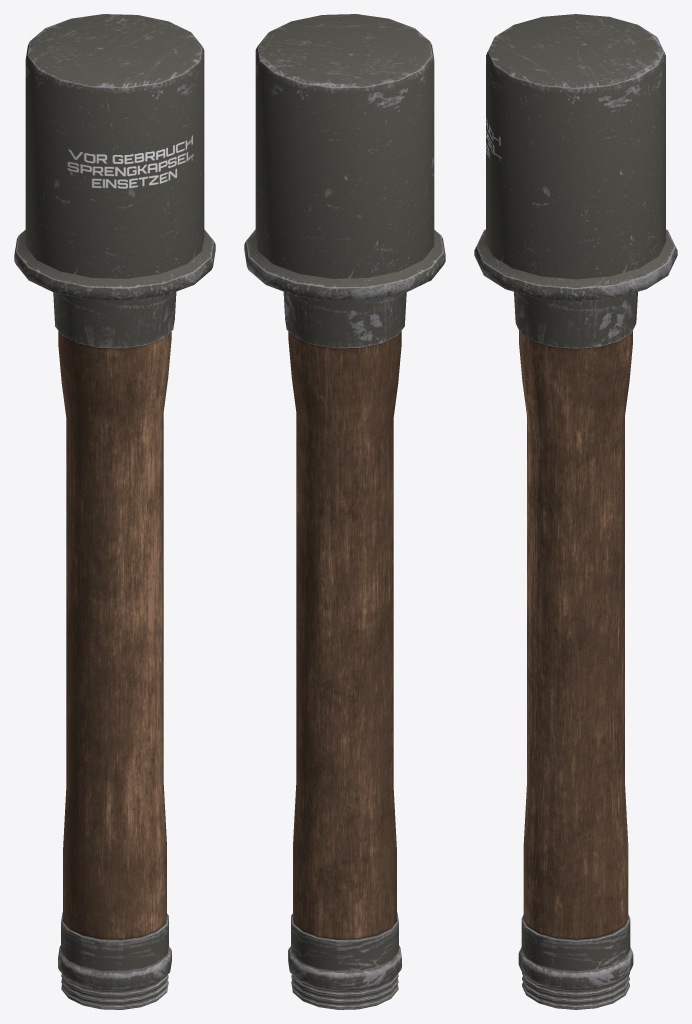
The model's file is 020_M24_Grenade_cc0.glb.
The picture shows the model from 3 angles, left to right: view 1: azimuth 30°, elevation 25°; view 2: azimuth 150°, elevation 25°; view 3: azimuth 270°, elevation 25°; orthographic projection.
Visible parts, largest first — view 1: Cylinder_1; view 2: Cylinder_1; view 3: Cylinder_1.
Boxes of the visible parts, left/top/right/bottom form: Cylinder_1: left=14, top=14, right=215, bottom=1009; Cylinder_1: left=244, top=14, right=445, bottom=1009; Cylinder_1: left=474, top=14, right=677, bottom=1009.
Bounding box in the file's own units: 0.0491 × 0.2506 × 0.0491.
1 material, 1 textured.
